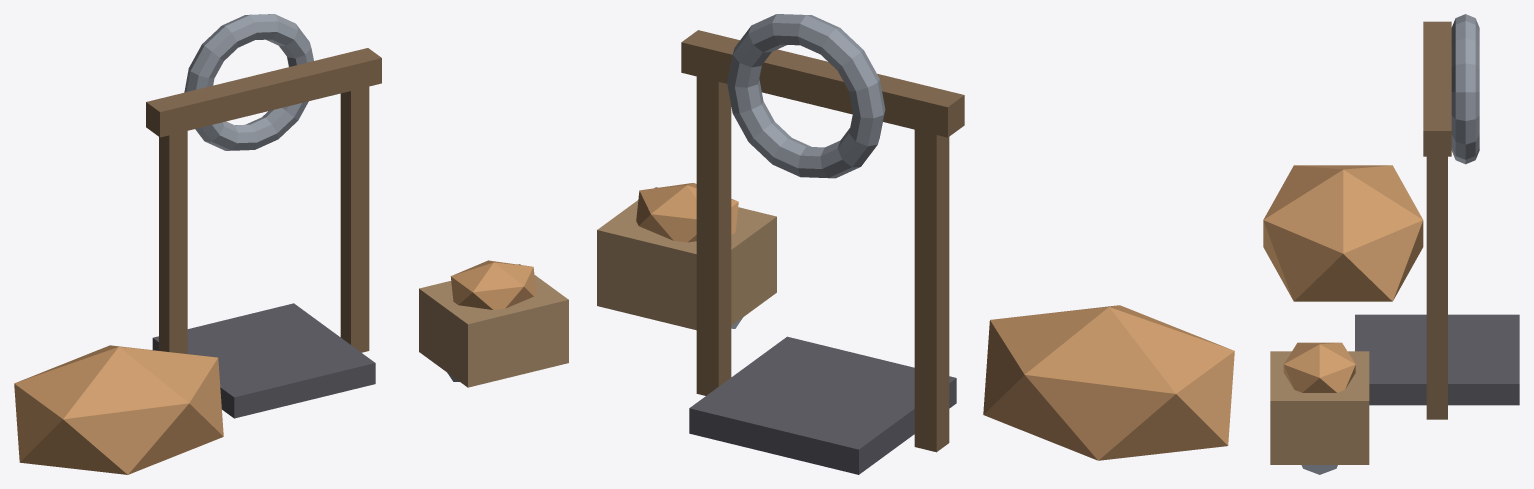
File: iron_mine.glb
3 views of the same model, side by side, from view 1: azimuth 30°, elevation 25°; view 2: azimuth 150°, elevation 25°; view 3: azimuth 270°, elevation 25° (orthographic). The views are drawn at different scales.
Visible parts, largest first — view 1: IronMineLegL; view 2: IronMineLegL; view 3: IronMineLegL.
Part boxes in pixels (x1,y1,x2,y2): IronMineLegL: (14,14,568,474); IronMineLegL: (597,14,1234,474); IronMineLegL: (1263,14,1519,474).
Bounding box in the file's own units: 2.54 × 1.74 × 1.09.
